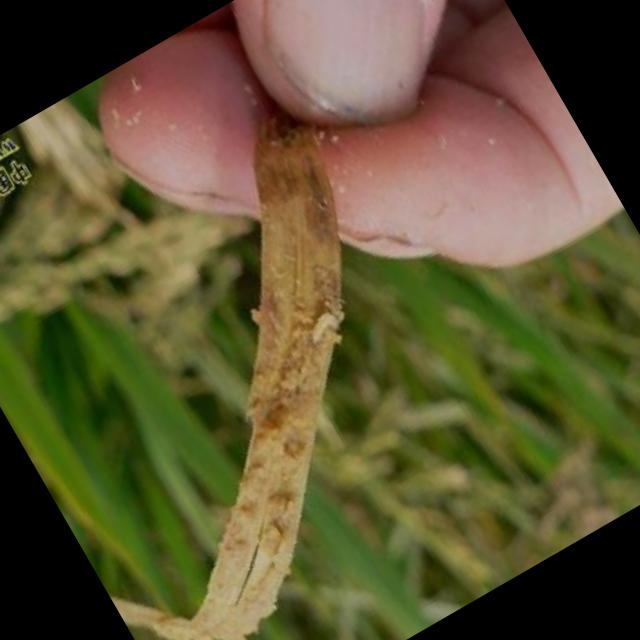whorl-maggot: (294, 302, 352, 358)
